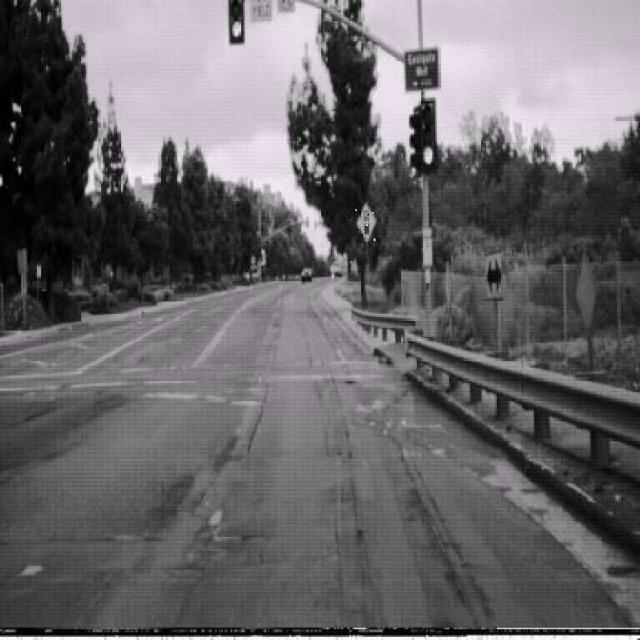signalAhead: (355, 200, 377, 243)
